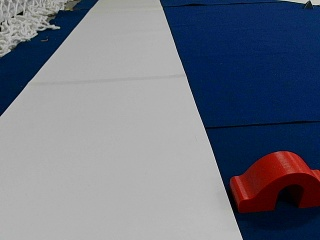bridge: (230, 150, 319, 207)
